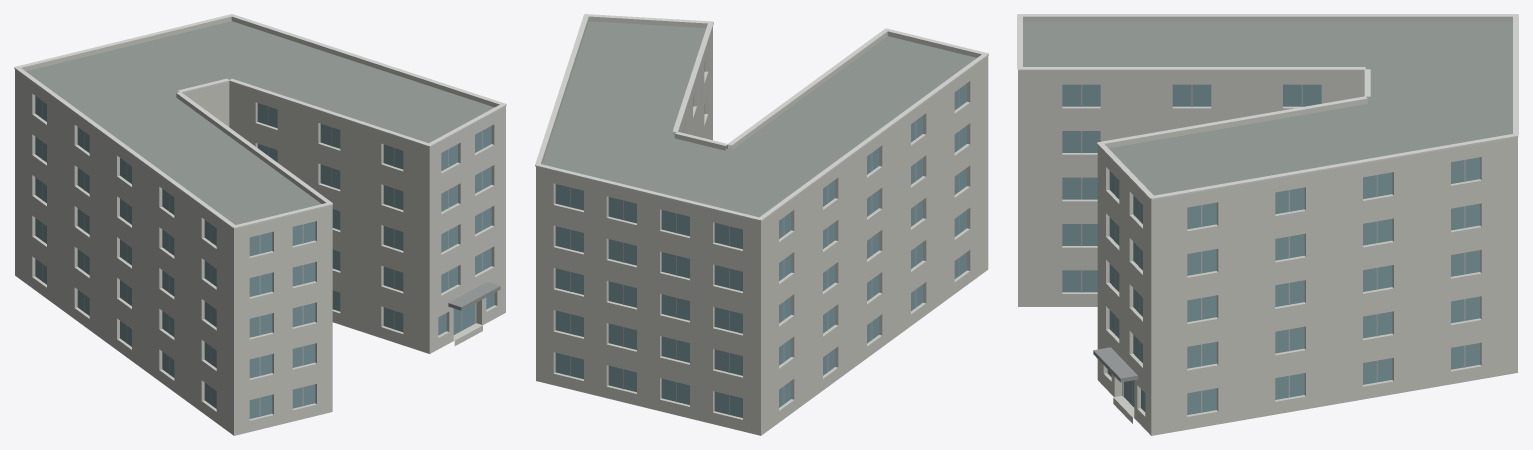
3 views of the same model, side by side, from view 1: azimuth 30°, elevation 25°; view 2: azimuth 150°, elevation 25°; view 3: azimuth 270°, elevation 25° (orthographic). The views are drawn at different scales.
Visible parts, largest first — view 1: osm761589260__wall, osm761589260__roof, osm761589260__glass, osm761589260__trim, osm761589260__parapet, osm761589260__frame, osm761589260__canopy; view 2: osm761589260__wall, osm761589260__roof, osm761589260__glass, osm761589260__trim, osm761589260__parapet, osm761589260__frame; view 3: osm761589260__wall, osm761589260__roof, osm761589260__glass, osm761589260__parapet, osm761589260__trim, osm761589260__frame, osm761589260__canopy.
Boxes of the visible parts, <box> form: osm761589260__wall: <box>15,72,505,435</box>; osm761589260__roof: <box>16,21,504,435</box>; osm761589260__glass: <box>35,96,494,418</box>; osm761589260__trim: <box>14,14,506,229</box>; osm761589260__parapet: <box>15,16,505,231</box>; osm761589260__frame: <box>42,101,482,416</box>; osm761589260__canopy: <box>448,282,500,310</box>; osm761589260__wall: <box>536,27,988,435</box>; osm761589260__roof: <box>536,21,986,435</box>; osm761589260__glass: <box>555,62,966,417</box>; osm761589260__trim: <box>535,14,988,221</box>; osm761589260__parapet: <box>536,16,988,224</box>; osm761589260__frame: <box>570,88,959,414</box>; osm761589260__wall: <box>1018,74,1517,435</box>; osm761589260__roof: <box>1018,21,1517,435</box>; osm761589260__glass: <box>1062,84,1480,414</box>; osm761589260__parapet: <box>1018,16,1517,203</box>; osm761589260__trim: <box>1017,14,1518,199</box>; osm761589260__frame: <box>1081,84,1465,412</box>; osm761589260__canopy: <box>1093,347,1138,382</box>.
Bounding box in the file's own units: 26.46 × 16.25 × 30.38.
